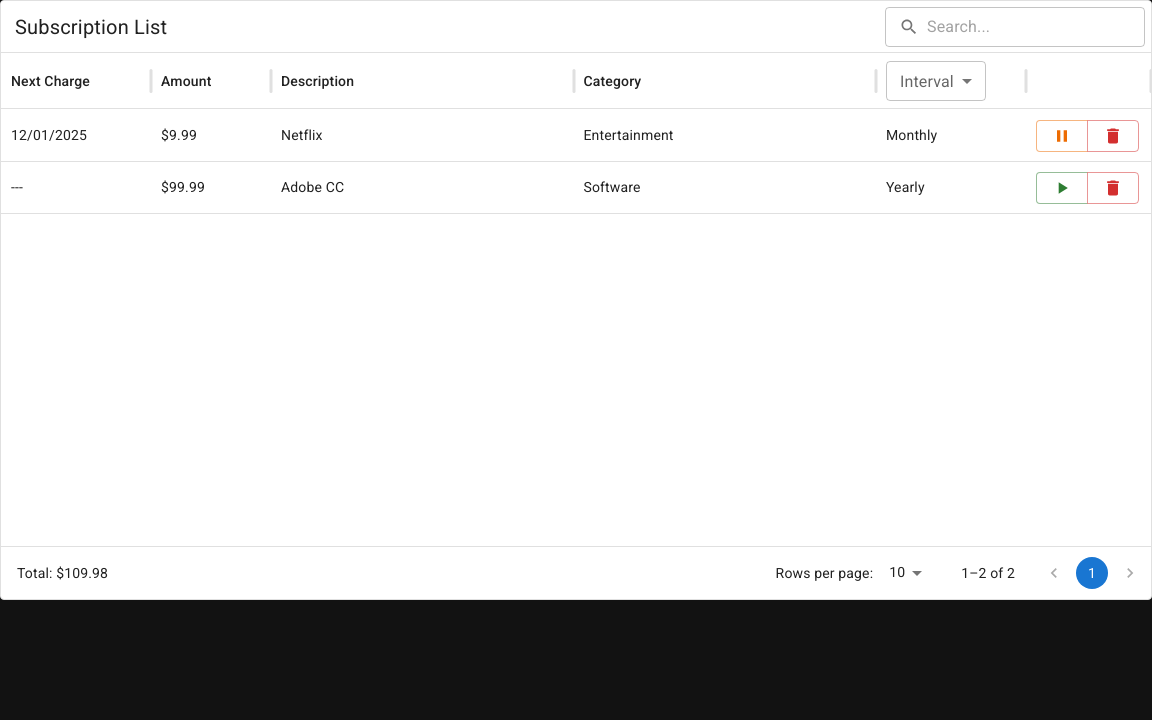
Test: Subscription List Component › Delete Subscription › Opens confirmation dialog when delete is clicked
Click the button named "delete" in the row of "12/01/2025": (1113, 136) [1087, 120, 1139, 152]
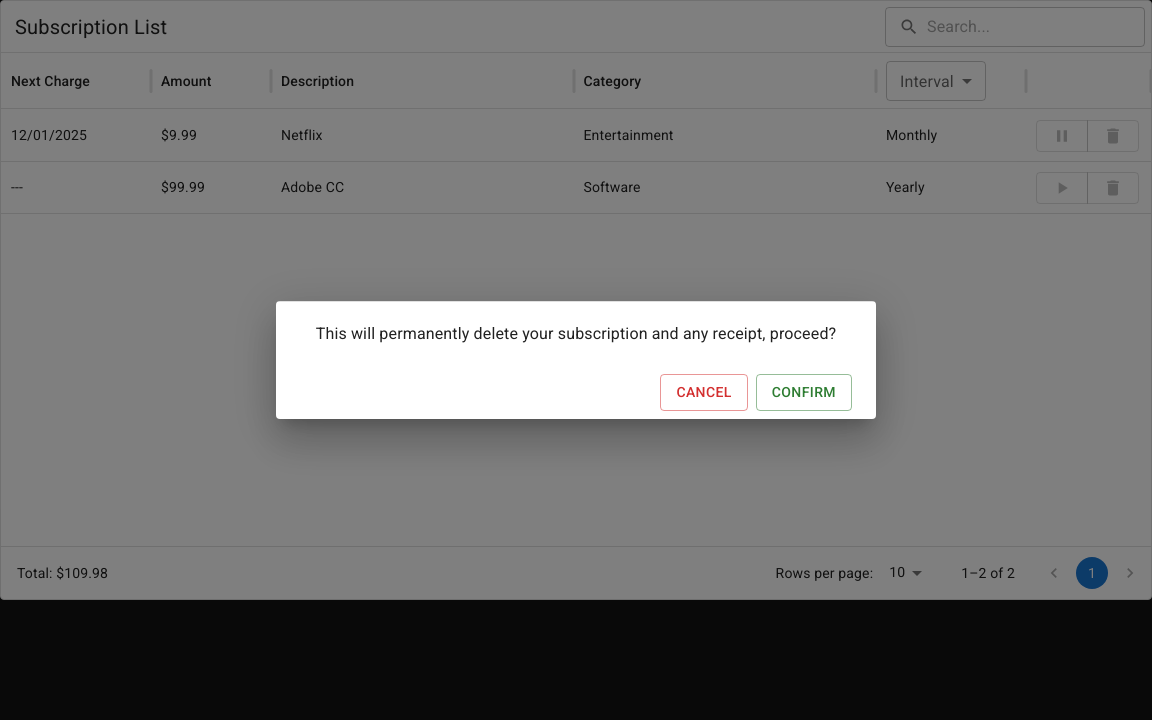
Expected: the text "permanently delete" is shown, [316, 324, 836, 343]
